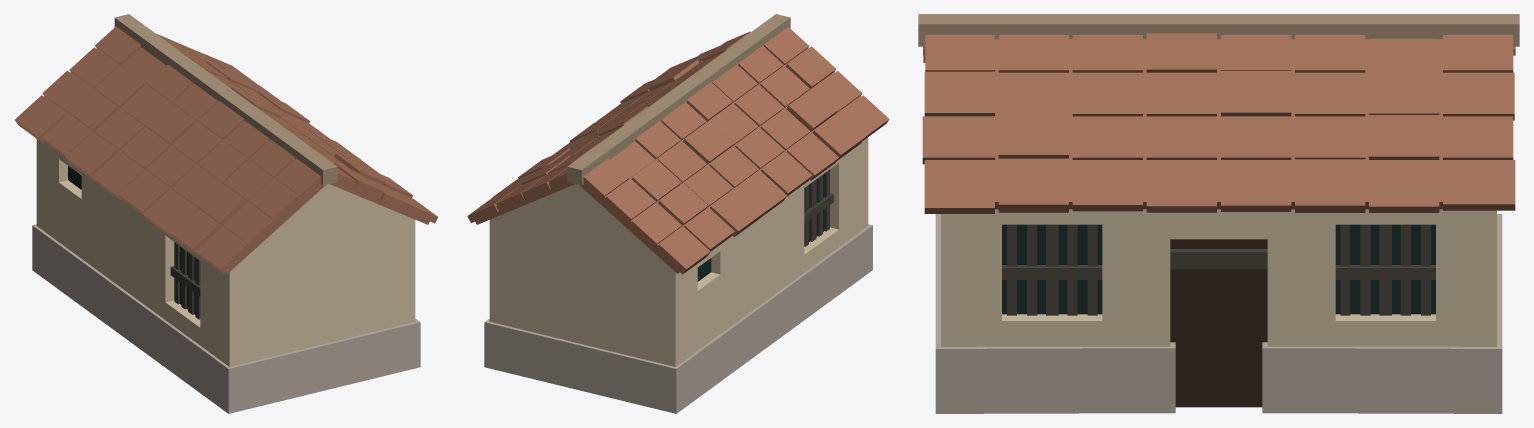
File: Building_mode_L2_Northhouse019.fbx
The picture shows the model from 3 angles, left to right: view 1: azimuth 30°, elevation 25°; view 2: azimuth 150°, elevation 25°; view 3: azimuth 270°, elevation 25°; orthographic projection. The views are drawn at different scales.
Visible parts, largest first — view 1: Building_mode_L2_Northhouse019; view 2: Building_mode_L2_Northhouse019; view 3: Building_mode_L2_Northhouse019.
Part boxes in pixels (x1,y1,x2,y2): Building_mode_L2_Northhouse019: [15, 14, 438, 413]; Building_mode_L2_Northhouse019: [467, 14, 889, 413]; Building_mode_L2_Northhouse019: [918, 14, 1519, 413].
Size of the model in its own units: 2.89 by 2.83 by 4.71.
